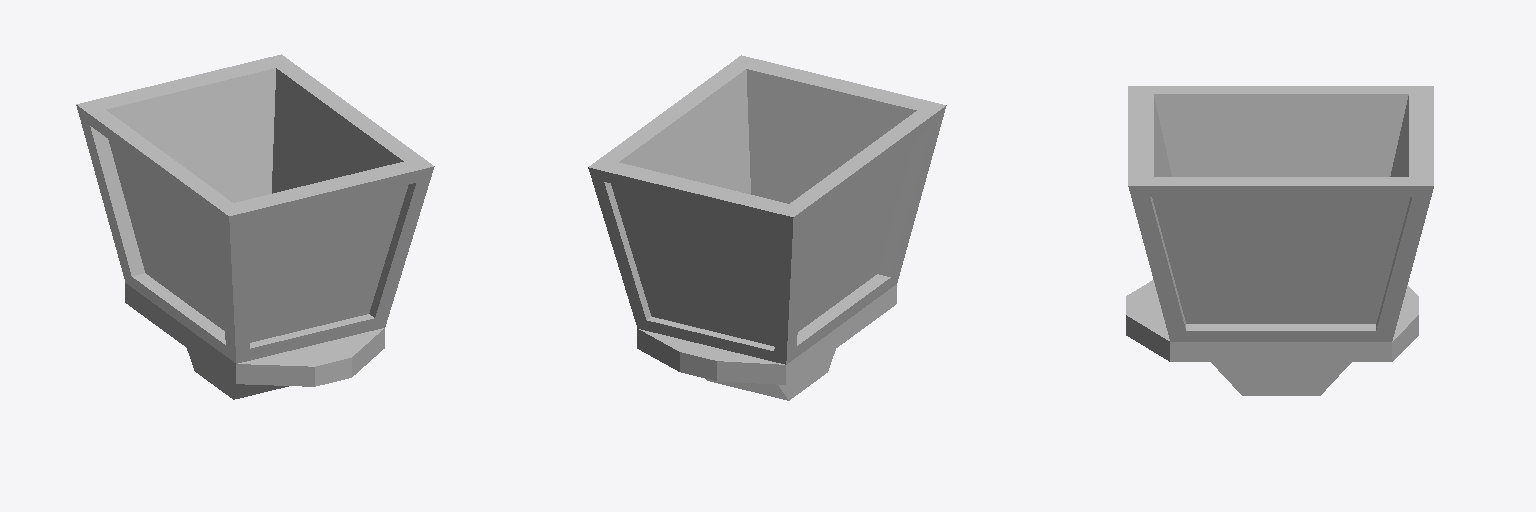
Rendered from minecart.obj.
3 renders of one model, left to right at view 1: azimuth 30°, elevation 25°; view 2: azimuth 150°, elevation 25°; view 3: azimuth 270°, elevation 25°, orthographic.
Visible parts, largest first — view 1: Mesh_Cube.001; view 2: Mesh_Cube.001; view 3: Mesh_Cube.001.
Part boxes in pixels (x1,y1,x2,y2): Mesh_Cube.001: (76,54,434,399); Mesh_Cube.001: (588,55,946,400); Mesh_Cube.001: (1126,86,1433,395).
Size of the model in its own units: 2.65 by 2.96 by 3.45.